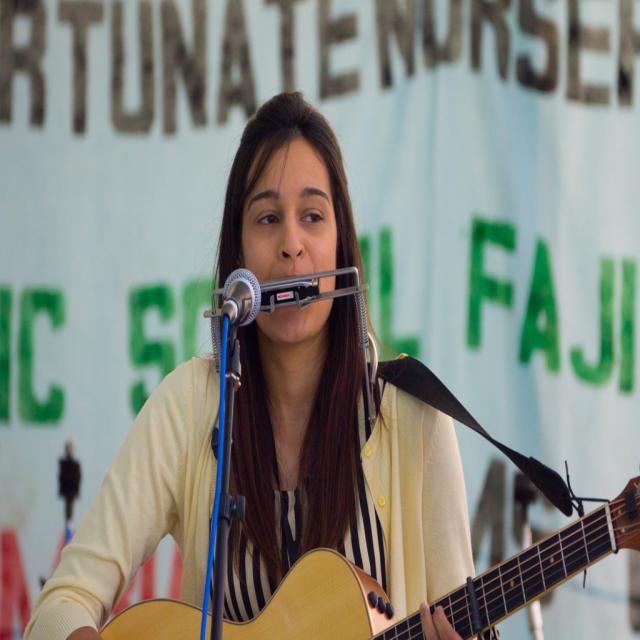no_helmet: (224, 162, 344, 225)
